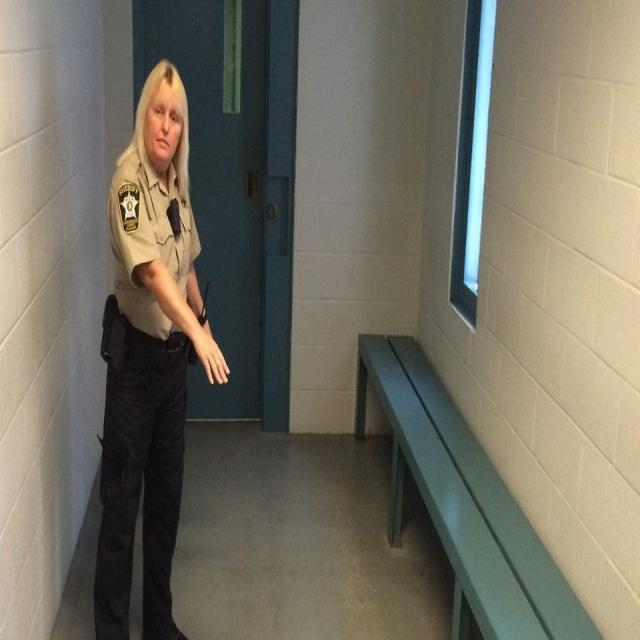police: (86, 38, 234, 640)
